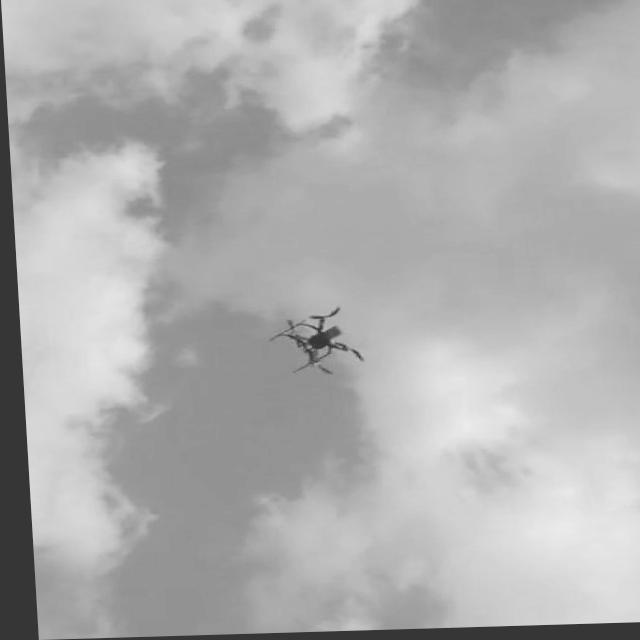drone: (262, 305, 365, 377)
